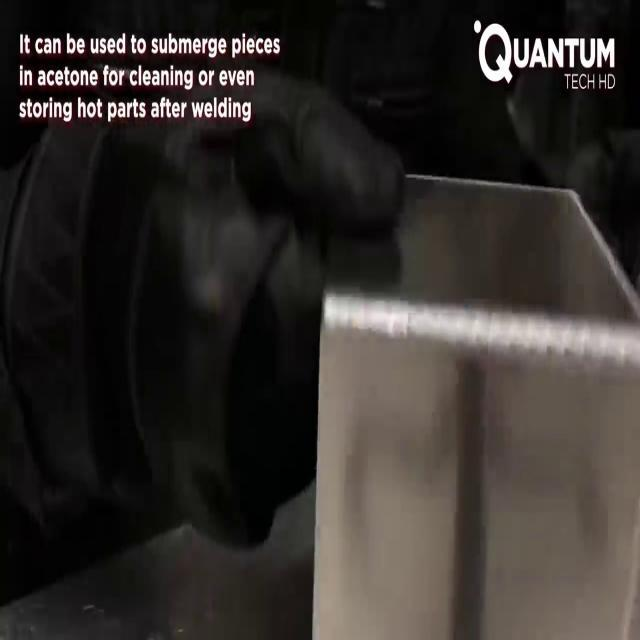Good Weld: (326, 288, 640, 356)
